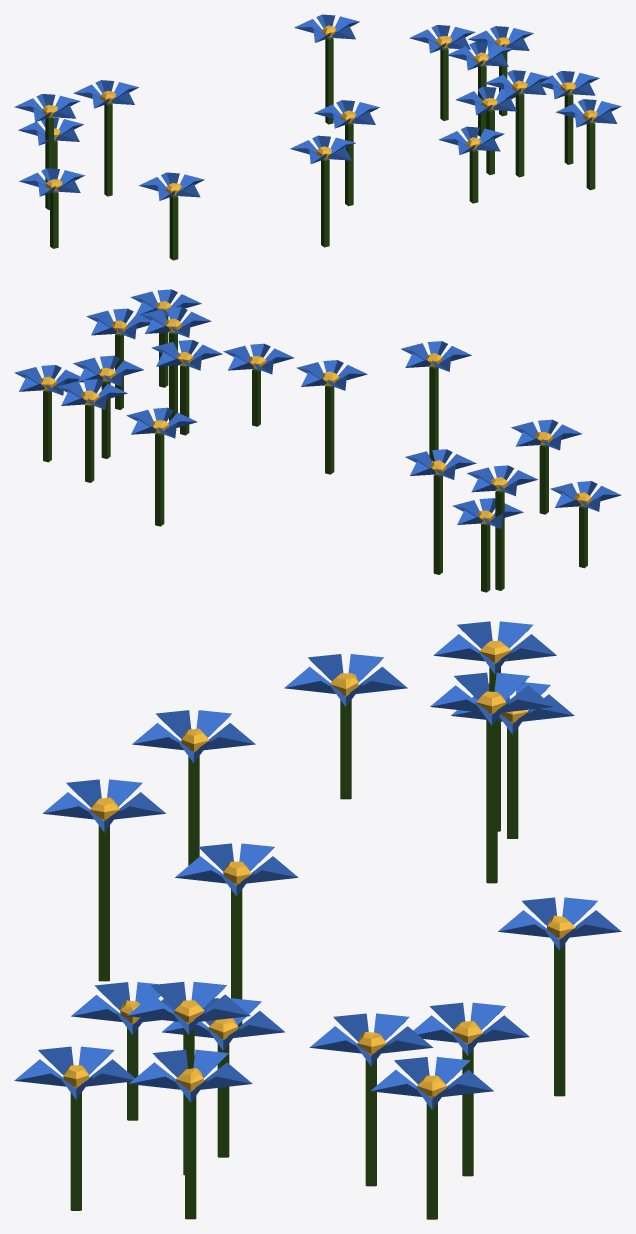
File: bed_flowers_0.obj
The picture shows the model from 3 angles, top to bottom: view 1: azimuth 30°, elevation 25°; view 2: azimuth 150°, elevation 25°; view 3: azimuth 270°, elevation 25°; orthographic projection. The views are drawn at different scales.
Visible parts, largest first — view 1: bed_flowers_0; view 2: bed_flowers_0; view 3: bed_flowers_0.
Boxes of the visible parts, x1,y1,x2,y2 form: bed_flowers_0: (14,14,621,260); bed_flowers_0: (14,289,621,592); bed_flowers_0: (14,621,621,1219).
Size of the model in its own units: 3.91 by 0.7496 by 2.14.
